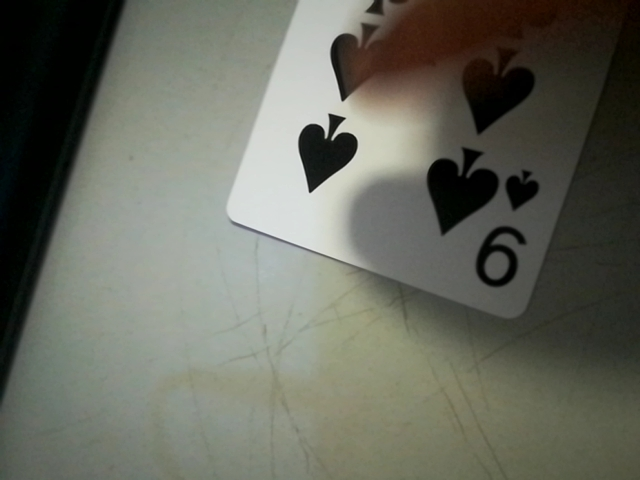ht 9: (471, 148, 551, 304)
